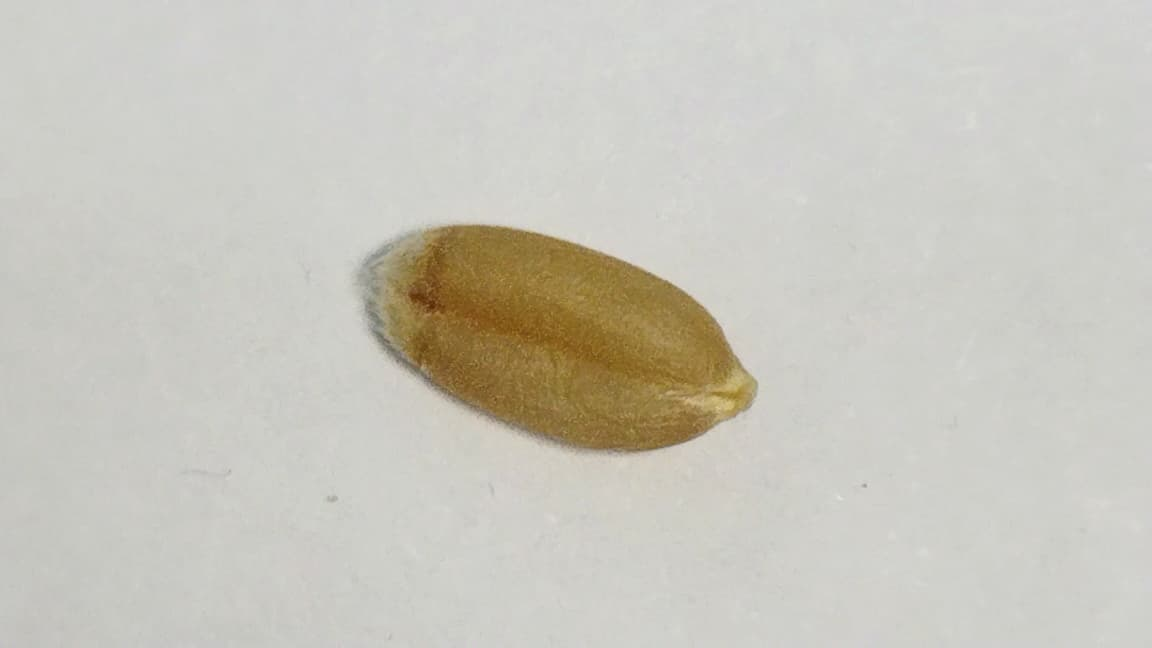healthy: (378, 226, 754, 449)
